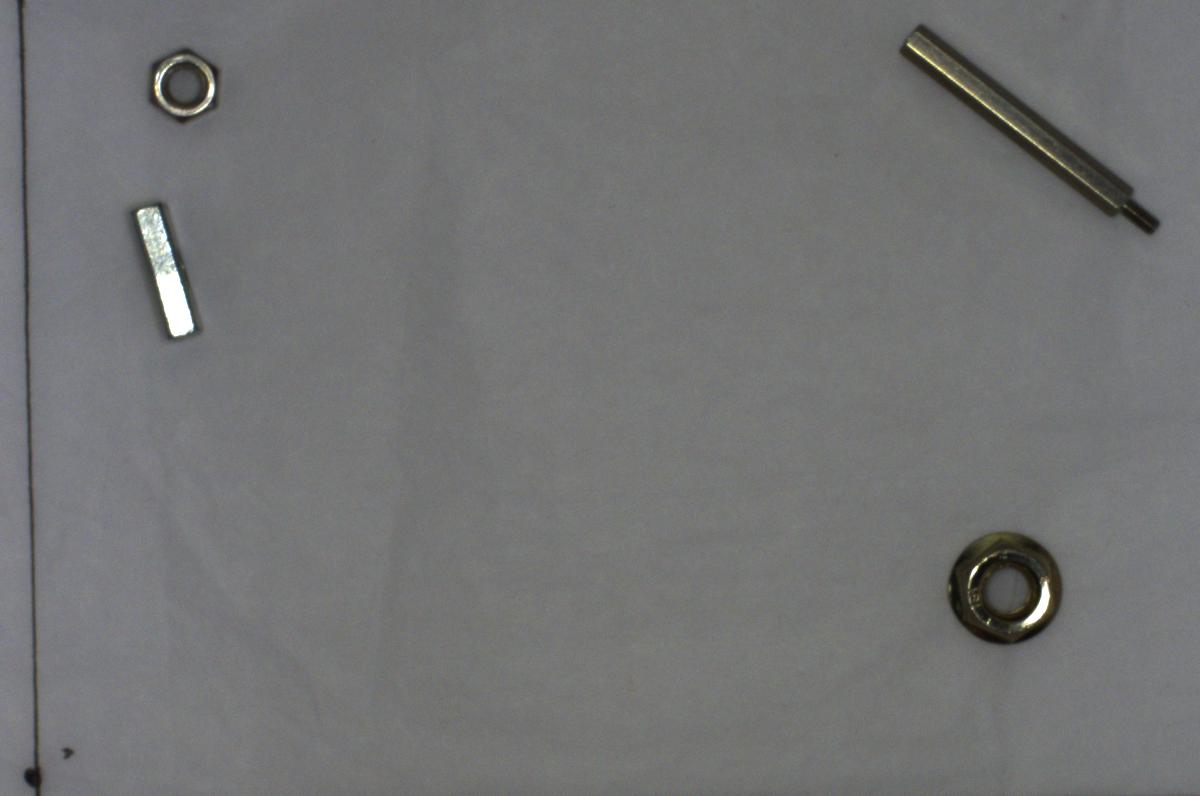Flange nut: (938, 520, 1067, 649)
Hexagon nut: (140, 34, 228, 132)
Hexagonal steel column: (887, 15, 1177, 253)
Rectangular nut: (120, 192, 211, 348)
